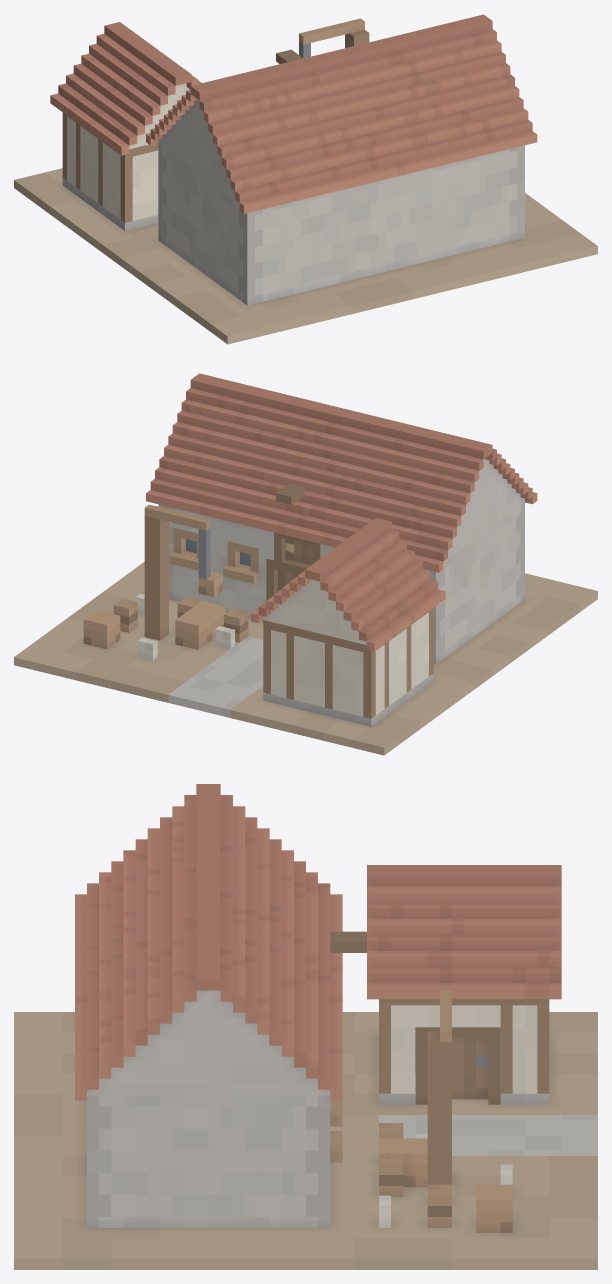
File: warehouse.l3.glb
3 views of the same model, one above another, from view 1: azimuth 30°, elevation 25°; view 2: azimuth 150°, elevation 25°; view 3: azimuth 270°, elevation 25° (orthographic). The views are drawn at different scales.
Parts seen in each view (by area): view 1: warehouse; view 2: warehouse; view 3: warehouse.
Part boxes in pixels (x1=…): warehouse: x1=14, y1=14, x2=597, y2=344; warehouse: x1=14, y1=373, x2=597, y2=755; warehouse: x1=14, y1=784, x2=597, y2=1269.
Bounding box in the file's own units: 6 × 3 × 6.
